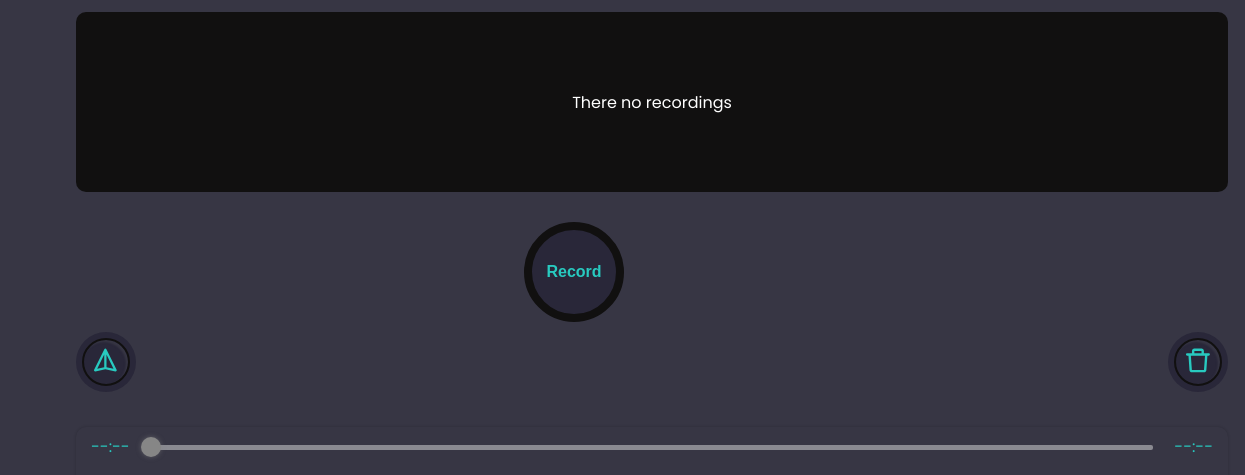
Test: With an empty list of recordings › user can start a recording pressing the button
Click the button "Record": [574, 272] box 524,222 -> 624,322
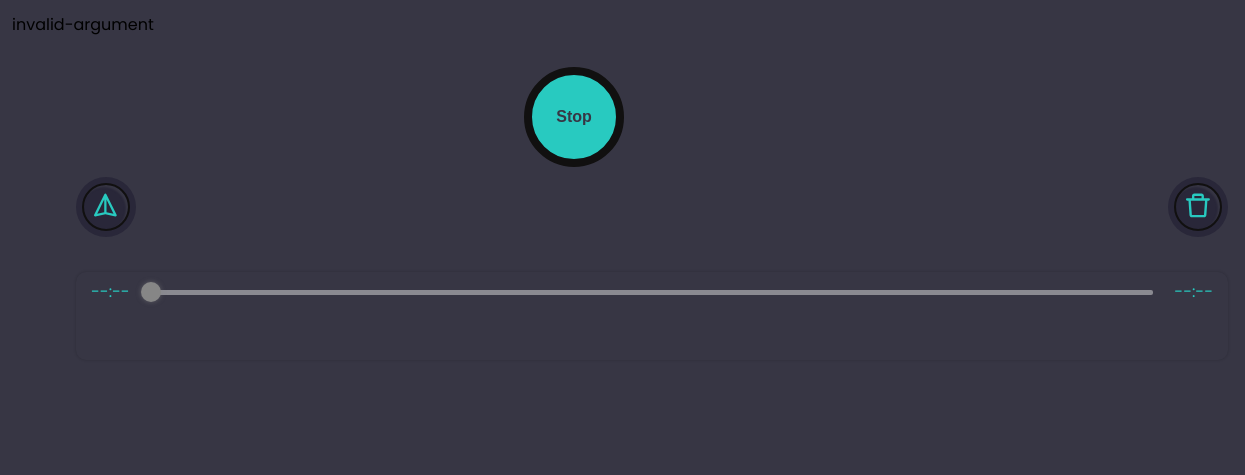
Expected: the button named "Record" reads "Stop", 524,67 -> 624,167
